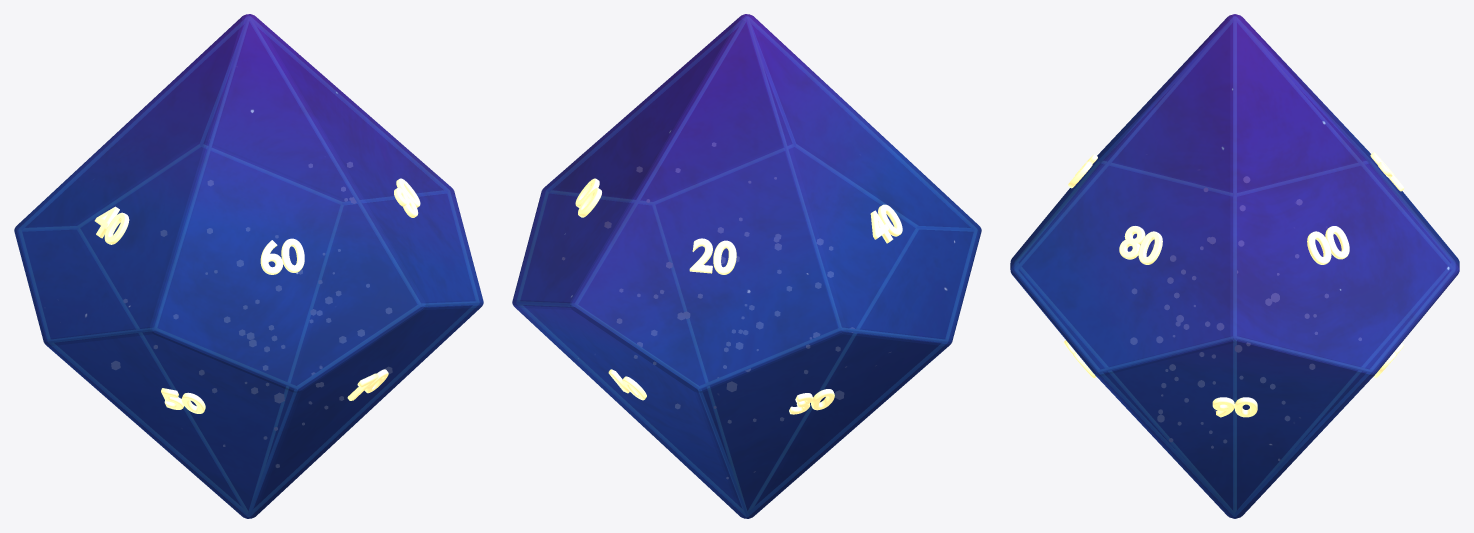
The model's file is D10_百分骰_00-90_星穹_baked.glb.
3 views of the same model, side by side, from view 1: azimuth 30°, elevation 25°; view 2: azimuth 150°, elevation 25°; view 3: azimuth 270°, elevation 25° (orthographic).
Parts seen in each view (by area): view 1: D10_00_90_Body_10_Faces, D10_00_90_Galaxy_Clean_Edge_Divider_v6, D10_00_90_Clustered_StarDust_v5, D10_00_90_Face_07_60, D10_00_90_Face_05_40, D10_00_90_Face_06_50, D10_00_90_Face_09_80; view 2: D10_00_90_Body_10_Faces, D10_00_90_Galaxy_Clean_Edge_Divider_v6, D10_00_90_Face_03_20, D10_00_90_Clustered_StarDust_v5, D10_00_90_Face_05_40, D10_00_90_Face_04_30, D10_00_90_Face_01_00; view 3: D10_00_90_Body_10_Faces, D10_00_90_Galaxy_Clean_Edge_Divider_v6, D10_00_90_Face_09_80, D10_00_90_Face_01_00, D10_00_90_Clustered_StarDust_v5, D10_00_90_Face_10_90.
Boxes of the visible parts, x1,y1,x2,y2 form: D10_00_90_Body_10_Faces: [14, 14, 483, 518]; D10_00_90_Galaxy_Clean_Edge_Divider_v6: [19, 16, 478, 516]; D10_00_90_Clustered_StarDust_v5: [111, 162, 391, 467]; D10_00_90_Face_07_60: [260, 238, 304, 274]; D10_00_90_Face_05_40: [94, 206, 129, 244]; D10_00_90_Face_06_50: [161, 388, 205, 413]; D10_00_90_Face_09_80: [394, 178, 420, 217]; D10_00_90_Body_10_Faces: [512, 14, 981, 518]; D10_00_90_Galaxy_Clean_Edge_Divider_v6: [517, 16, 976, 516]; D10_00_90_Face_03_20: [689, 238, 736, 274]; D10_00_90_Clustered_StarDust_v5: [562, 143, 843, 478]; D10_00_90_Face_05_40: [870, 204, 902, 243]; D10_00_90_Face_04_30: [789, 389, 834, 414]; D10_00_90_Face_01_00: [575, 178, 601, 217]; D10_00_90_Body_10_Faces: [1010, 14, 1459, 518]; D10_00_90_Galaxy_Clean_Edge_Divider_v6: [1015, 16, 1454, 516]; D10_00_90_Face_09_80: [1119, 226, 1162, 264]; D10_00_90_Face_01_00: [1307, 226, 1349, 264]; D10_00_90_Clustered_StarDust_v5: [1131, 177, 1361, 460]; D10_00_90_Face_10_90: [1212, 397, 1257, 417].
Size of the model in its own units: 3.56 by 4.18 by 3.39.
Materials: 4 (1 with a texture image).
